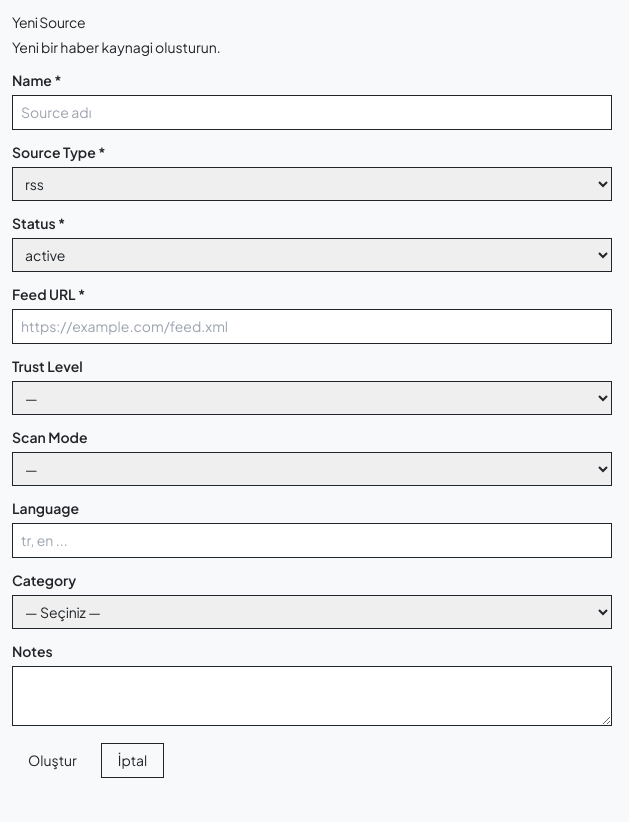
Scenario: SourceForm / Create page smoke tests › shows rss feed_url required validation
Type "Test RSS" into the field with placeholder "Source adı" at (312, 112), box [12,95,612,130]
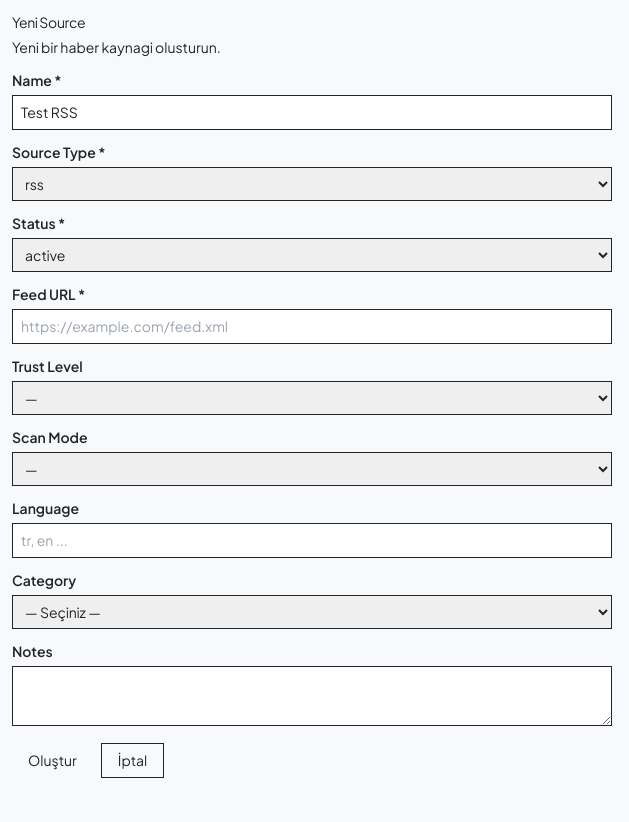
Click the button "Oluştur" at (52, 760), box [12,743,93,778]
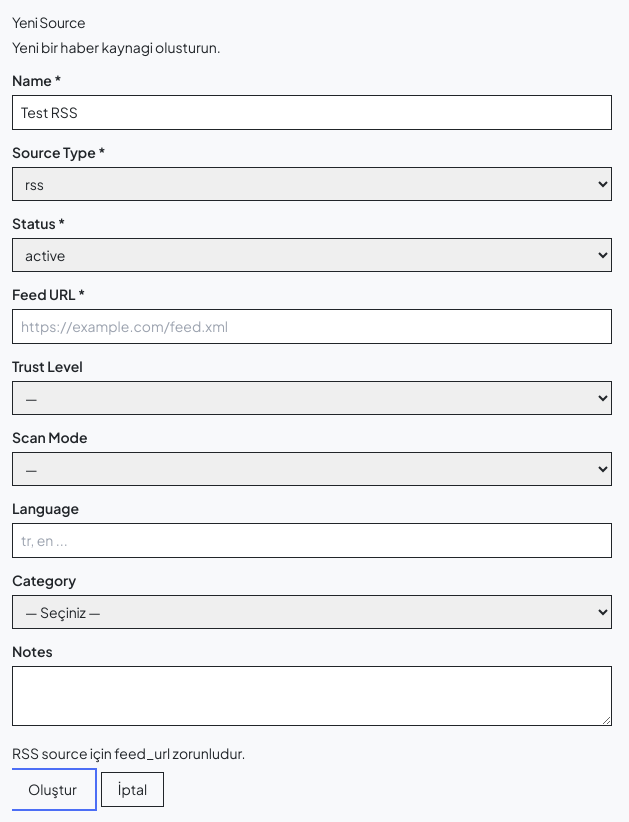
Expected: the text "RSS source için feed_url zorunludur." is shown, [12,744,246,762]
